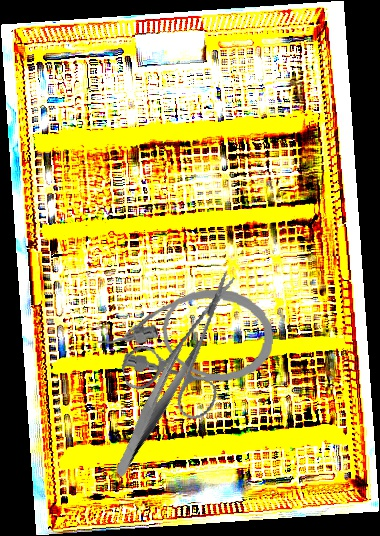Cannula: (96, 282, 276, 385)
Dressing Forceps: (84, 332, 228, 478)
Iris Scissors: (104, 269, 268, 435)
